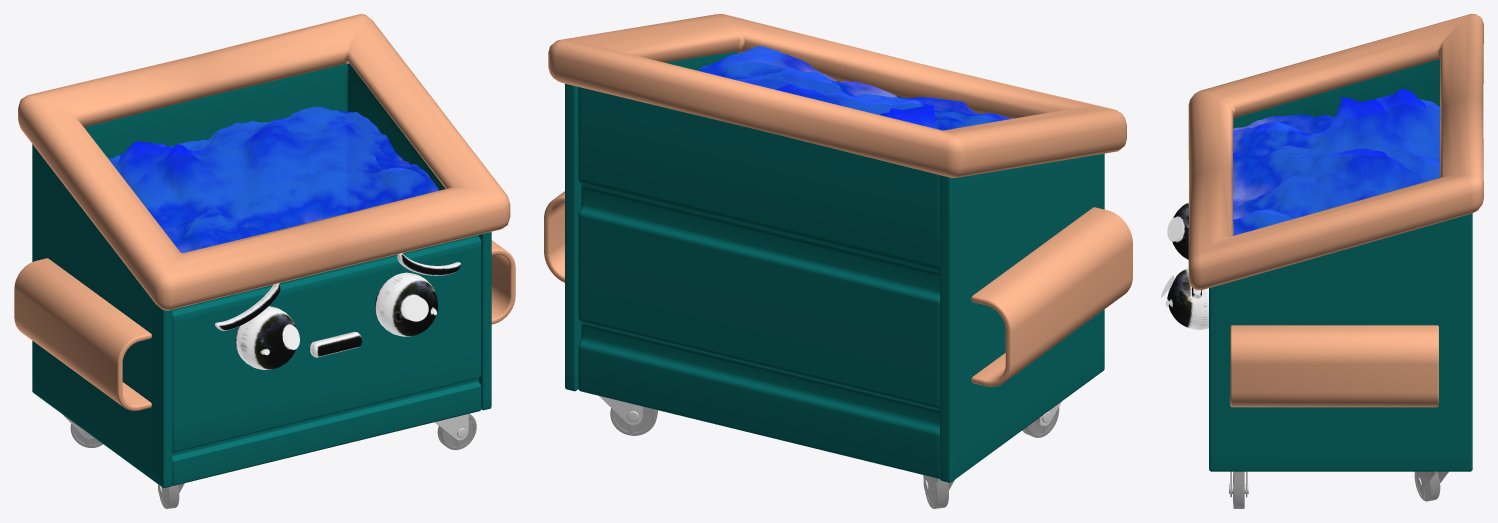
3 views of the same model, side by side, from view 1: azimuth 30°, elevation 25°; view 2: azimuth 150°, elevation 25°; view 3: azimuth 270°, elevation 25° (orthographic). The views are drawn at different scales.
Parts seen in each view (by area): view 1: Dumpster Geometry, Explosion Fire Base.003, Wheel Holder; view 2: Dumpster Geometry, Explosion Fire Base.003, Wheel Holder; view 3: Dumpster Geometry, Explosion Fire Base.003, Wheel Holder.
Part boxes in pixels (left/top/right/bottom): Dumpster Geometry: left=14, top=14, right=515, bottom=508; Explosion Fire Base.003: left=107, top=106, right=438, bottom=253; Wheel Holder: left=63, top=414, right=468, bottom=497; Dumpster Geometry: left=544, top=14, right=1132, bottom=508; Explosion Fire Base.003: left=698, top=46, right=1013, bottom=130; Wheel Holder: left=599, top=396, right=1061, bottom=495; Dumpster Geometry: left=1161, top=14, right=1483, bottom=508; Explosion Fire Base.003: left=1233, top=88, right=1440, bottom=235; Wheel Holder: left=1229, top=471, right=1448, bottom=497.
Size of what is drawn, in the model's own units: 2.3 by 1.89 by 1.62.
Materials: 8 (4 with a texture image).
